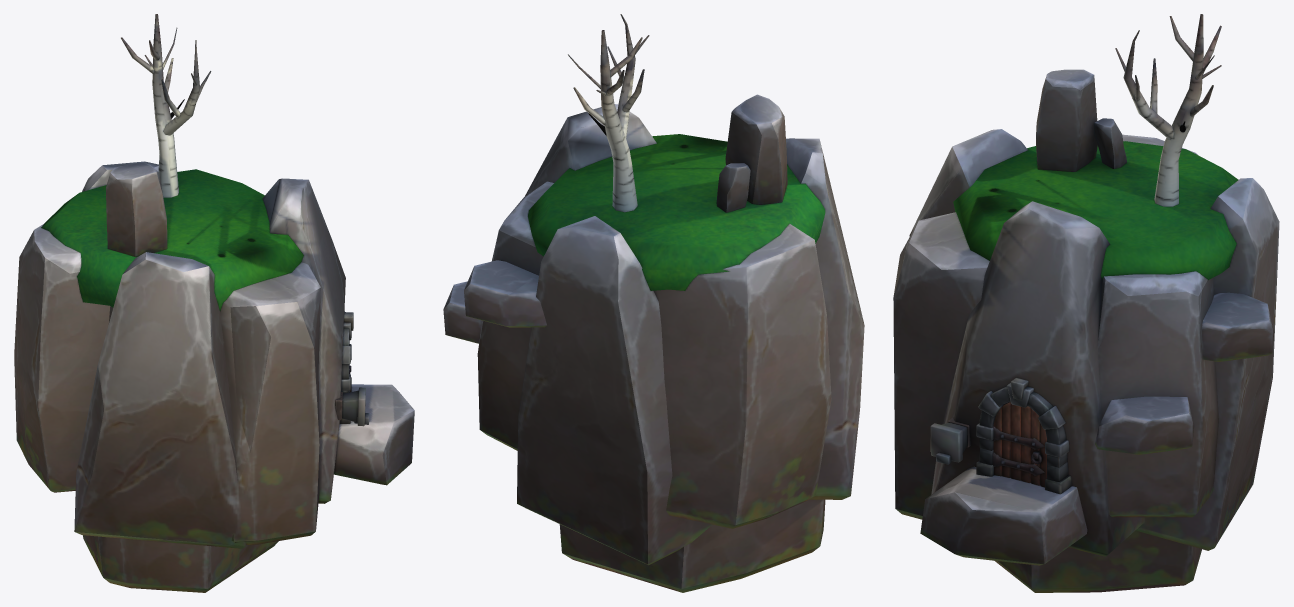
3 views of the same model, side by side, from view 1: azimuth 30°, elevation 25°; view 2: azimuth 150°, elevation 25°; view 3: azimuth 270°, elevation 25° (orthographic). The views are drawn at different scales.
Parts seen in each view (by area): view 1: island_2; view 2: island_2; view 3: island_2.
Boxes of the visible parts, x1,y1,x2,y2 form: island_2: [14, 14, 414, 592]; island_2: [443, 14, 864, 592]; island_2: [893, 14, 1279, 592].
Size of the model in its own units: 10.1 by 14.37 by 8.94.
Materials: 2 (1 with a texture image).
